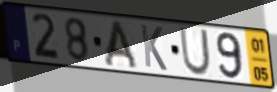2: (32, 12, 62, 61)
8: (64, 16, 92, 64)
9: (215, 30, 245, 81)
A: (103, 18, 140, 71)
K: (138, 22, 169, 73)
U: (178, 26, 213, 78)
